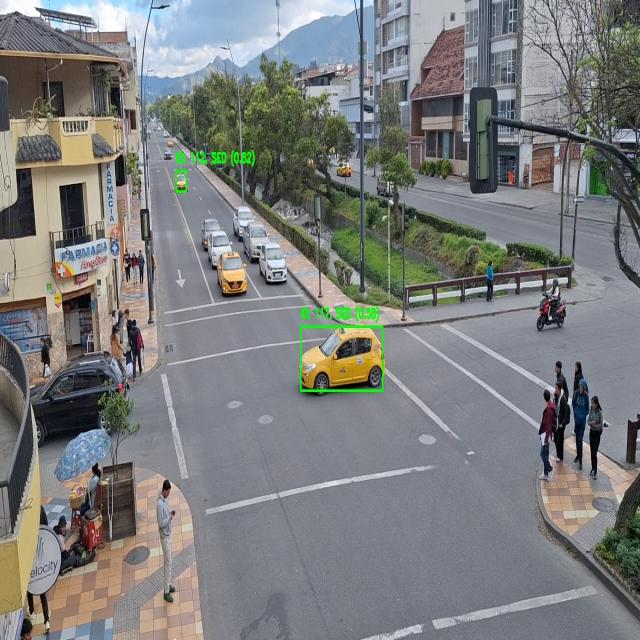CMT: (244, 224, 268, 261)
MOTORCYCLE: (536, 296, 565, 330)
SED: (303, 328, 386, 390), (216, 253, 246, 295), (260, 243, 288, 282), (208, 232, 232, 268)
SUV: (234, 205, 256, 239)
